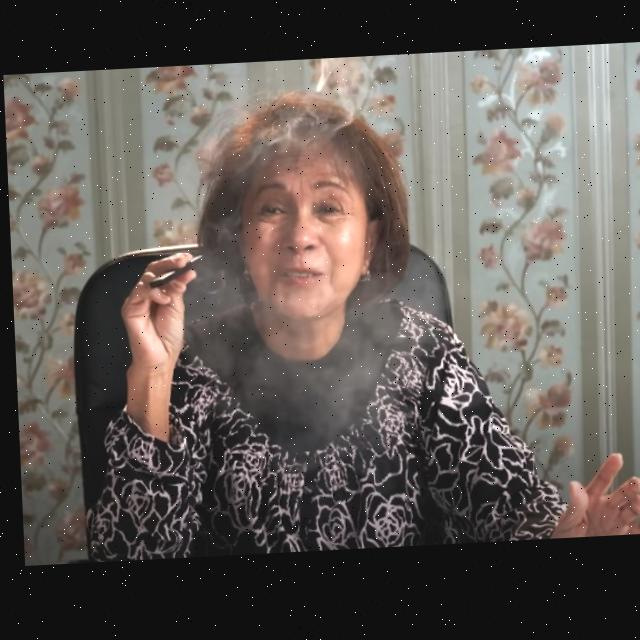vape: (146, 257, 203, 290)
